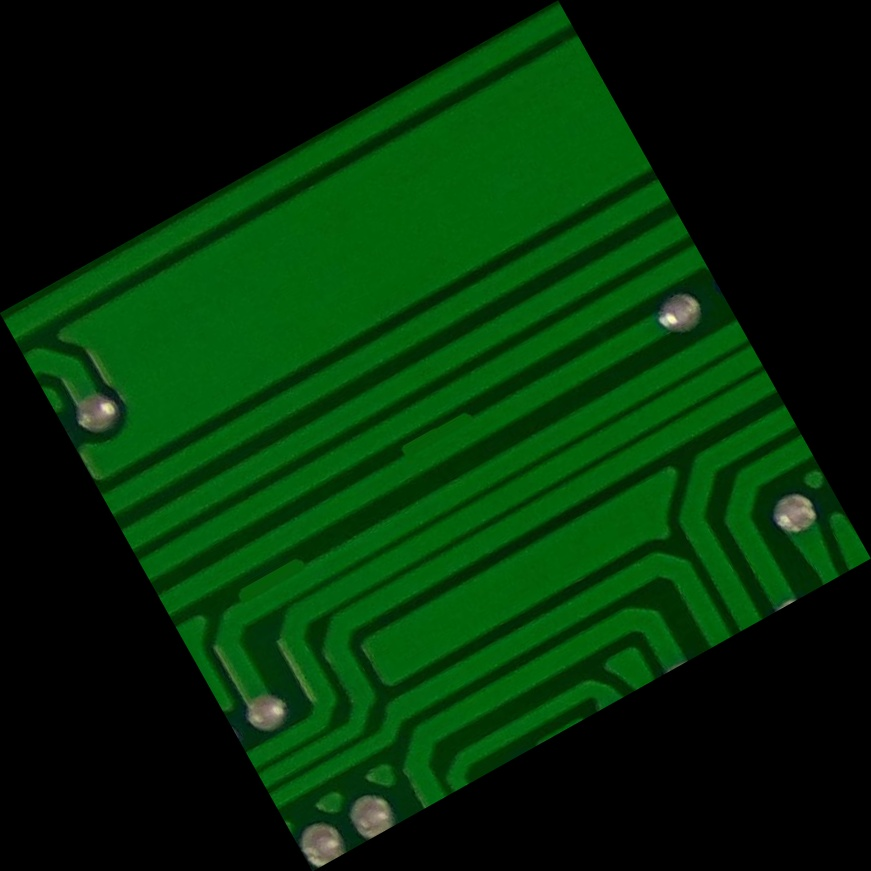spur: (384, 393, 489, 479)
